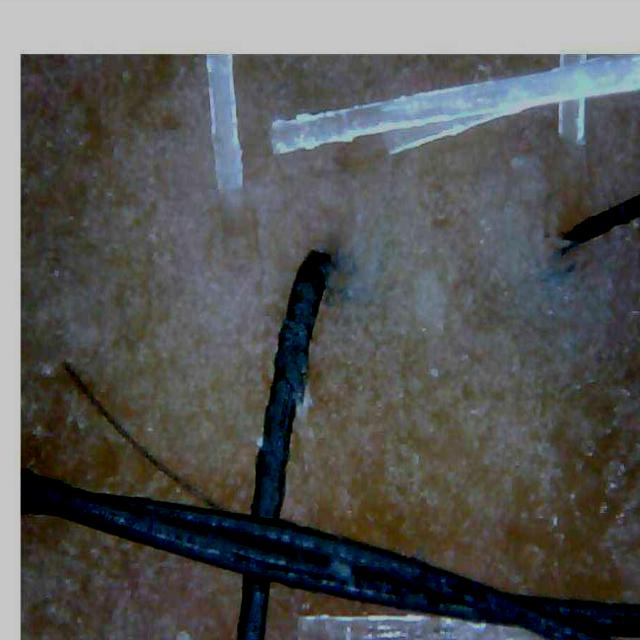ds: (327, 187, 454, 355), (484, 143, 558, 312), (533, 252, 620, 369), (263, 158, 364, 254)
o: (591, 378, 640, 600)
